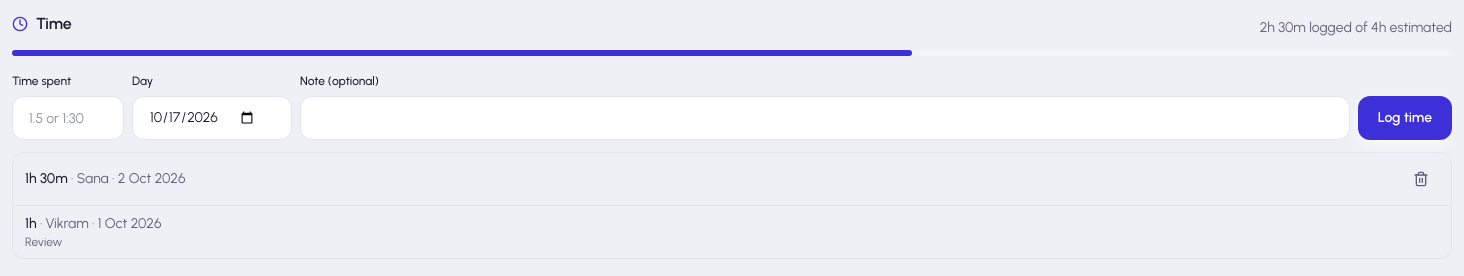
Test: TaskTime › only your own entries can be removed
The image size is (1464, 276).
expect the text "2h 30m logged of 4h estimated" is shown: met, box [1260,18,1452,38]
Step 1. Click the button named "Remove " → (1421, 179), box [1403,161,1439,197]
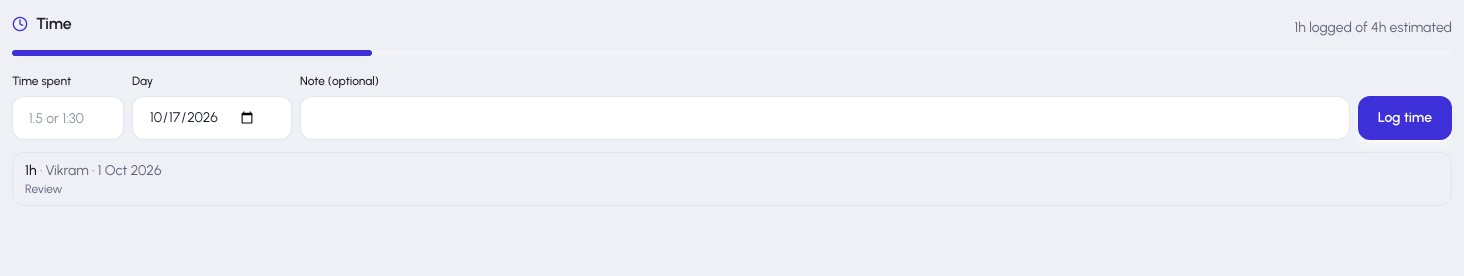
expect the text "1h logged of 4h estimated" is shown: met, box [1295,18,1452,38]
